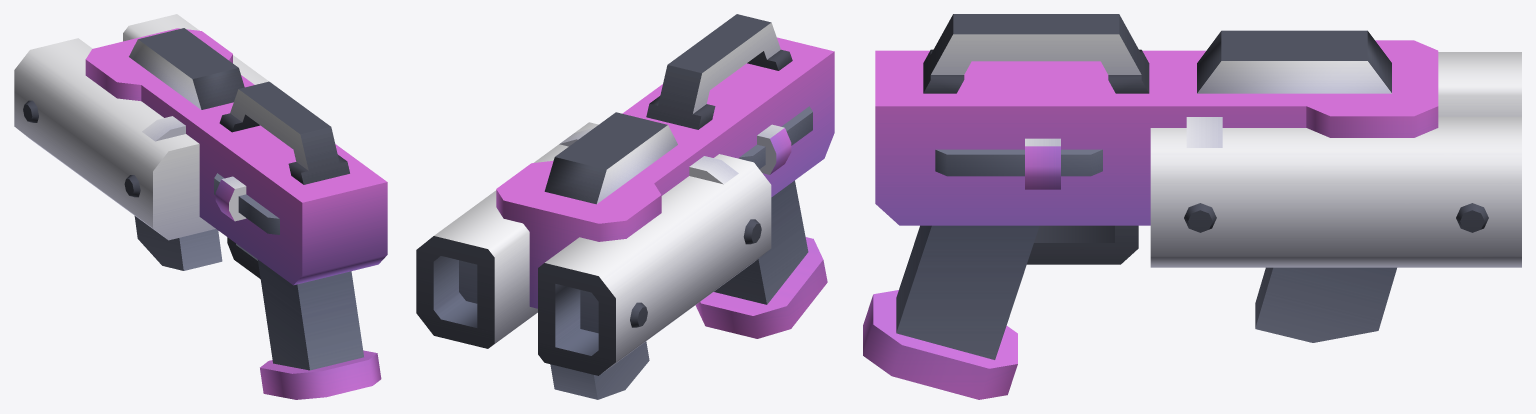
File: blaster-l.glb
The picture shows the model from 3 angles, left to right: view 1: azimuth 30°, elevation 25°; view 2: azimuth 150°, elevation 25°; view 3: azimuth 270°, elevation 25°; orthographic projection. The views are drawn at different scales.
Visible parts, largest first — view 1: blaster-l; view 2: blaster-l; view 3: blaster-l.
Boxes of the visible parts, left/top/right/bottom form: blaster-l: left=14, top=14, right=387, bottom=399; blaster-l: left=416, top=14, right=834, bottom=399; blaster-l: left=863, top=14, right=1521, bottom=399.
Bounding box in the file's own units: 0.2438 × 0.3279 × 0.5504.
Materials: 1 (1 with a texture image).
